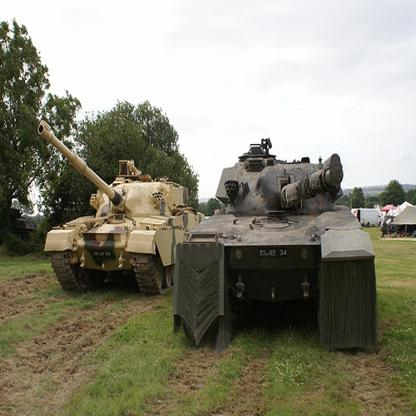Tank: (174, 140, 387, 360), (28, 119, 197, 299)
